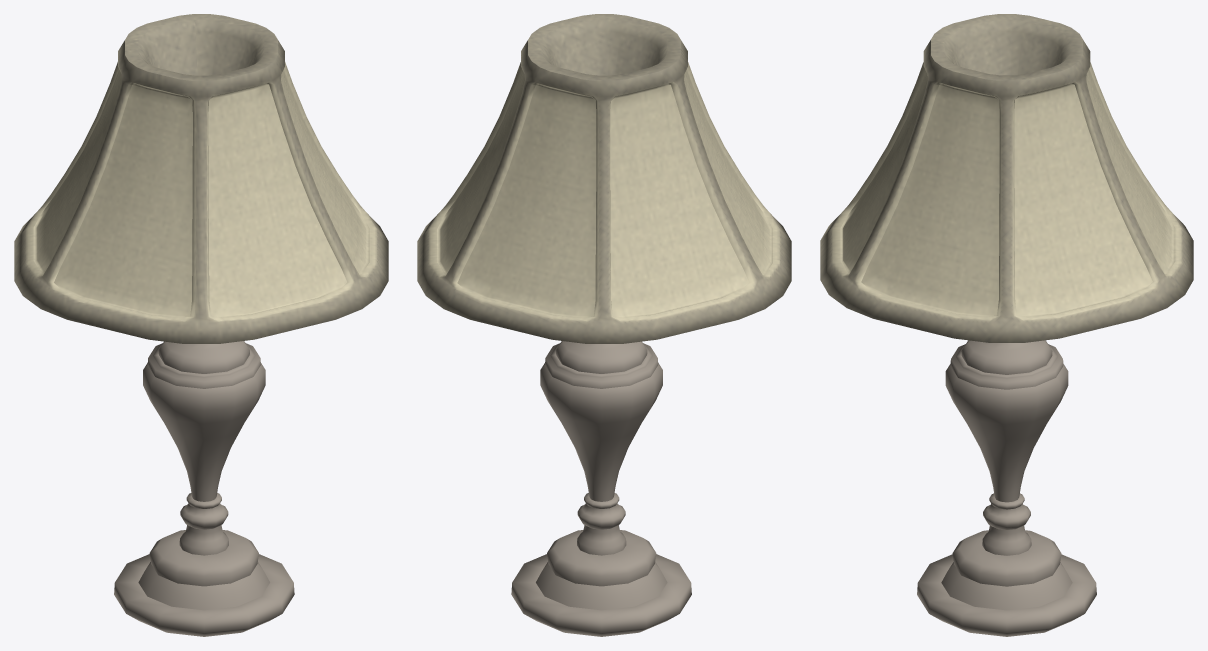
The model's file is light_desk.fbx.
The picture shows the model from 3 angles, left to right: view 1: azimuth 30°, elevation 25°; view 2: azimuth 150°, elevation 25°; view 3: azimuth 270°, elevation 25°; orthographic projection.
Parts seen in each view (by area): view 1: light_desk; view 2: light_desk; view 3: light_desk.
Part boxes in pixels (box(x1,y1,x2,y2)): light_desk: box(14, 14, 388, 636); light_desk: box(417, 14, 791, 636); light_desk: box(820, 14, 1193, 636).
Bounding box in the file's own units: 45.38 × 71.38 × 43.38.
